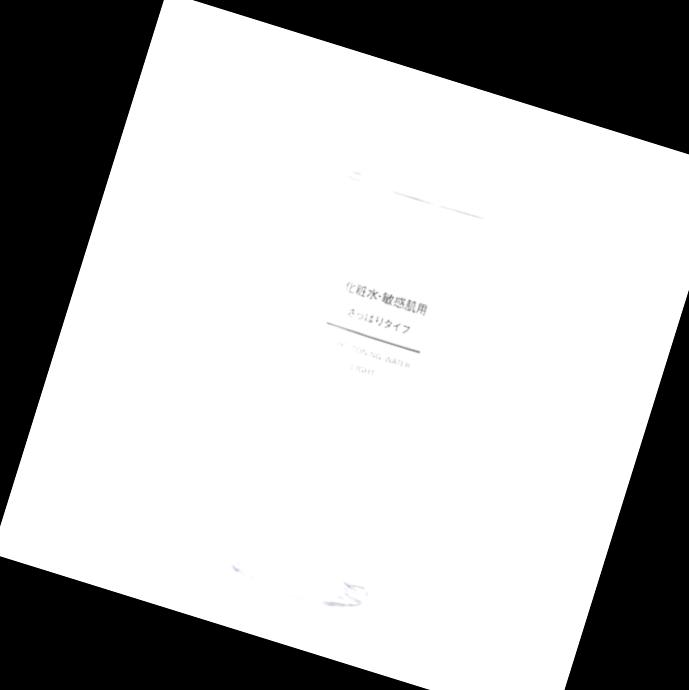cosmetic: (219, 107, 509, 614)
